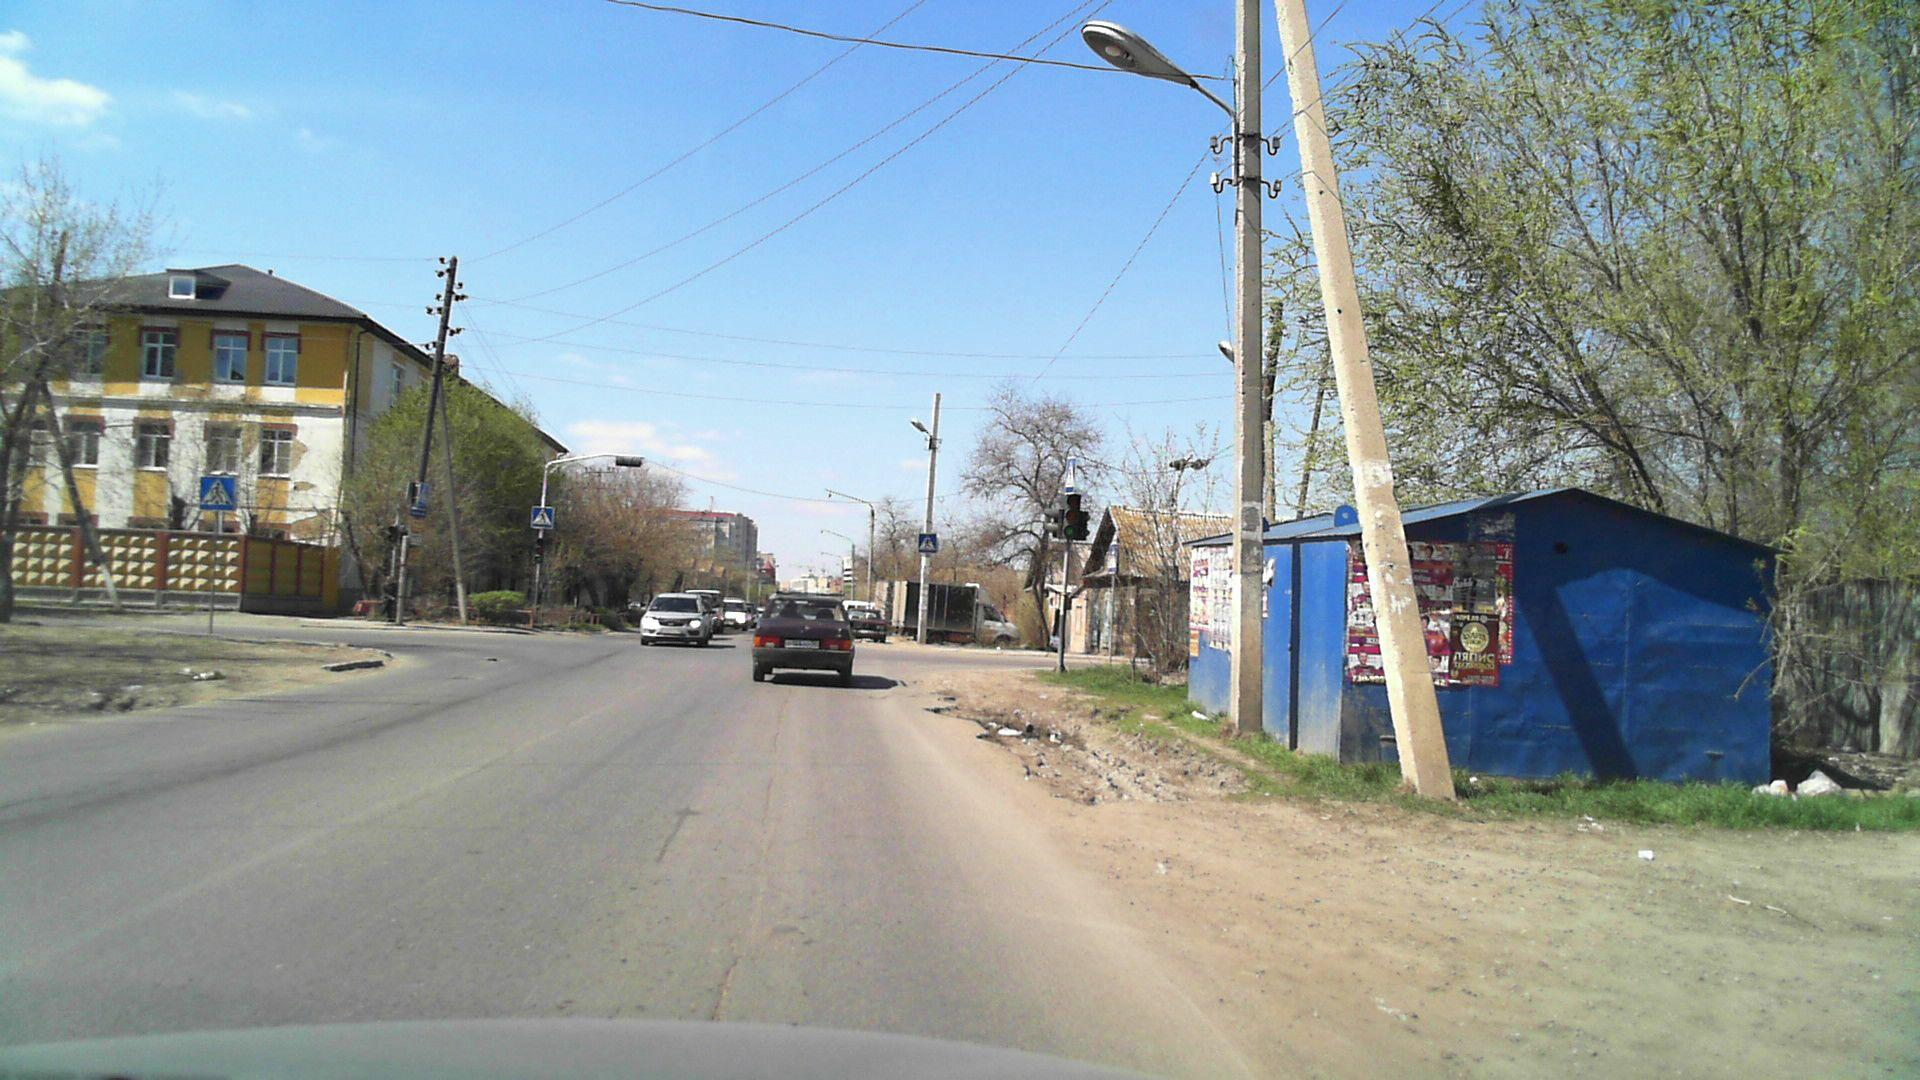5_19_1: (1064, 458, 1079, 495), (918, 531, 936, 553), (417, 484, 429, 504)
5_19_2: (200, 476, 235, 509), (531, 506, 554, 529)
